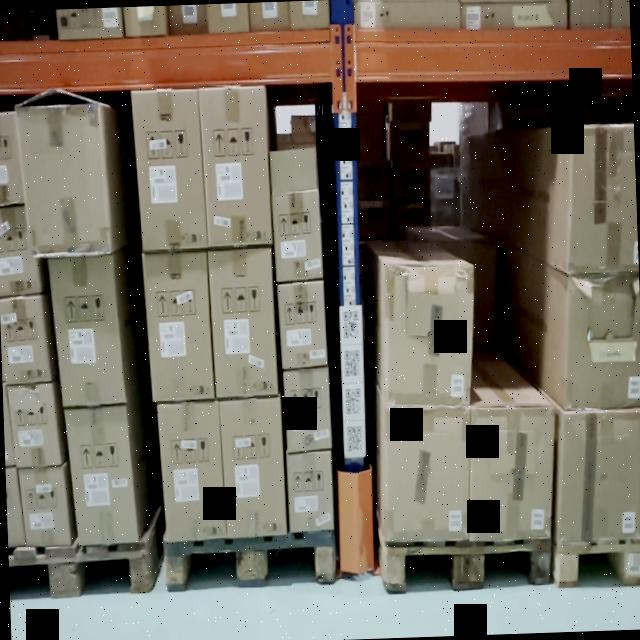box: (17, 102, 109, 255), (385, 264, 471, 405), (382, 406, 468, 542), (48, 256, 124, 406), (200, 87, 272, 245), (472, 404, 550, 538), (559, 413, 640, 542), (567, 125, 638, 271), (564, 274, 640, 409), (65, 407, 138, 546), (138, 90, 202, 246), (146, 253, 212, 399), (211, 248, 276, 395), (223, 398, 284, 536), (161, 404, 223, 537), (0, 295, 51, 384), (6, 383, 60, 465), (18, 468, 70, 546), (278, 282, 326, 364), (286, 366, 331, 452), (274, 195, 320, 277), (287, 453, 333, 529)
